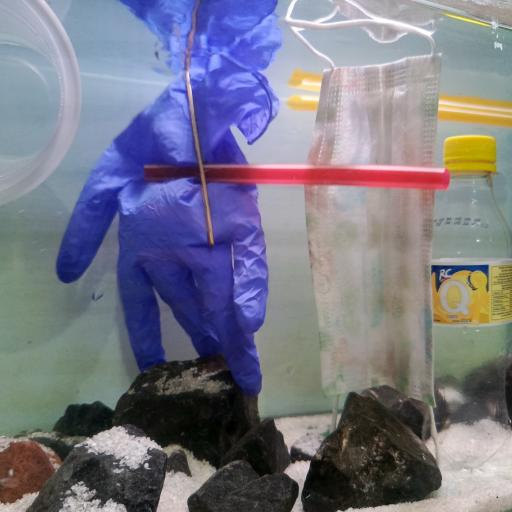bottle_cap: (444, 131, 498, 165)
glove: (52, 56, 276, 393)
mask: (292, 18, 440, 428)
plastic_bottle: (429, 131, 512, 477)
plastic_cup: (2, 0, 82, 210)
plastic_straw: (144, 159, 452, 191), (287, 91, 512, 125)
